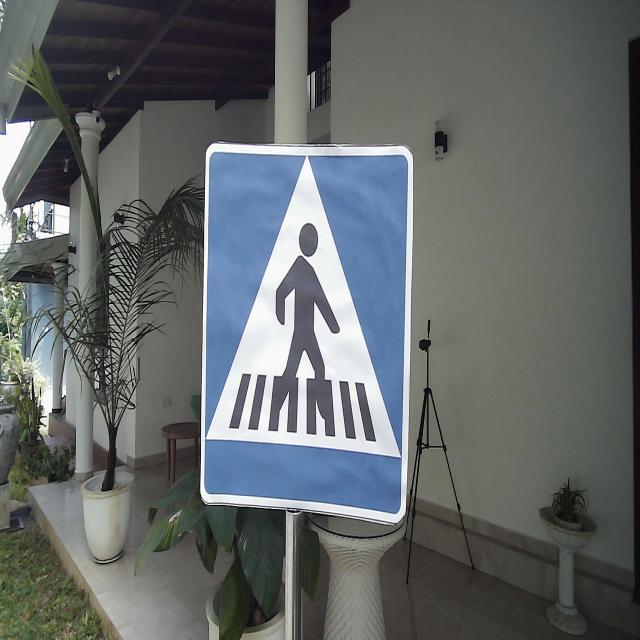crosswalk_sign: (198, 139, 416, 529)
